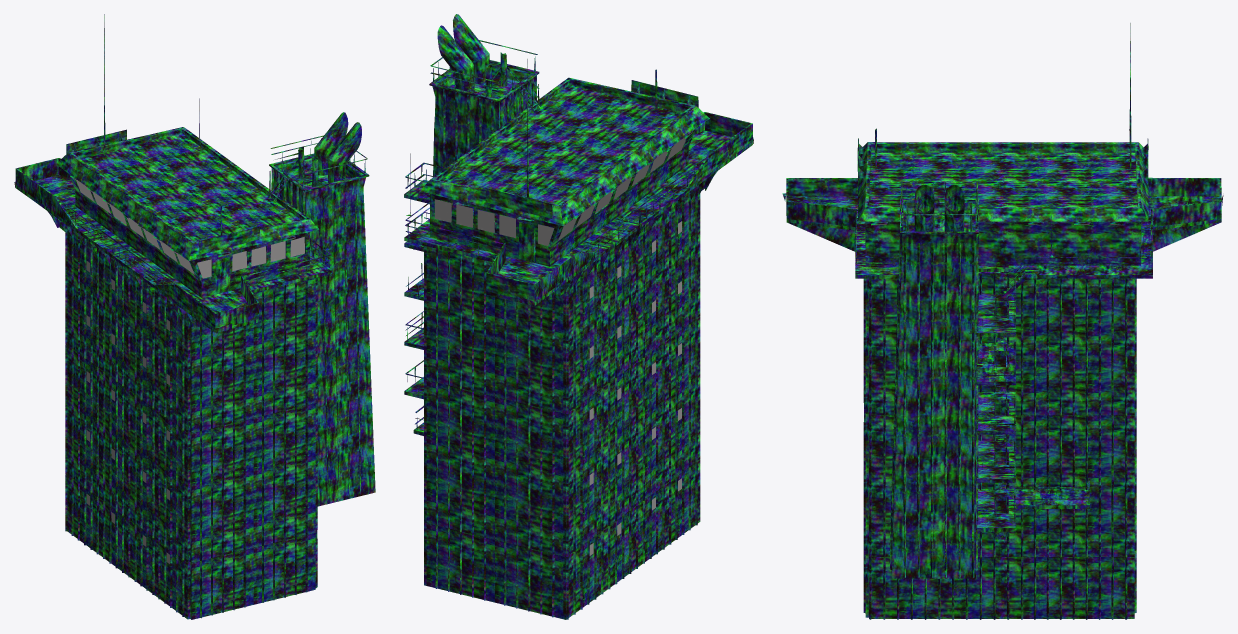
The model's file is SM_CaptainMerged.fbx.
3 views of the same model, side by side, from view 1: azimuth 30°, elevation 25°; view 2: azimuth 150°, elevation 25°; view 3: azimuth 270°, elevation 25° (orthographic). The views are drawn at different scales.
Parts seen in each view (by area): view 1: SM_CaptainMerged_LOD0; view 2: SM_CaptainMerged_LOD0; view 3: SM_CaptainMerged_LOD0.
Part boxes in pixels (x1,y1,x2,y2): SM_CaptainMerged_LOD0: (14, 14, 375, 619); SM_CaptainMerged_LOD0: (404, 14, 753, 619); SM_CaptainMerged_LOD0: (782, 23, 1223, 619).
Size of the model in its own units: 861 by 1410 by 1962.
Materials: 2 (2 with a texture image).
